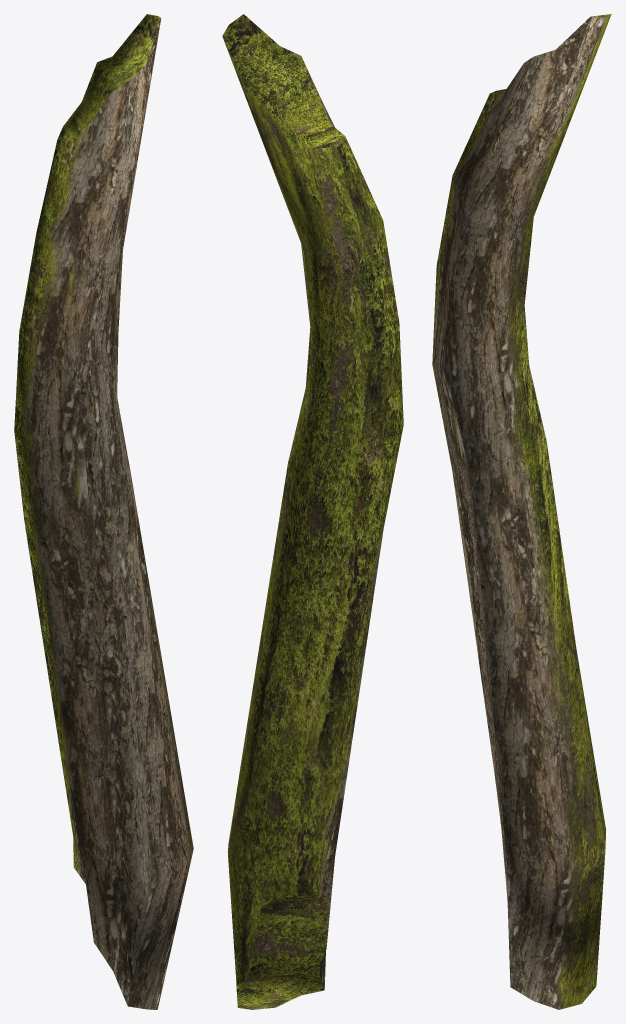
File: forest ground log mossy 3.fbx
3 views of the same model, side by side, from view 1: azimuth 30°, elevation 25°; view 2: azimuth 150°, elevation 25°; view 3: azimuth 330°, elevation 25° (orthographic). The views are drawn at different scales.
Visible parts, largest first — view 1: Cylinder_002; view 2: Cylinder_002; view 3: Cylinder_002.
Part boxes in pixels (x1=…): Cylinder_002: x1=14, y1=14, x2=193, y2=1009; Cylinder_002: x1=222, y1=14, x2=403, y2=1009; Cylinder_002: x1=432, y1=14, x2=611, y2=1009.
Size of the model in its own units: 0.3996 by 2.25 by 0.2651.
